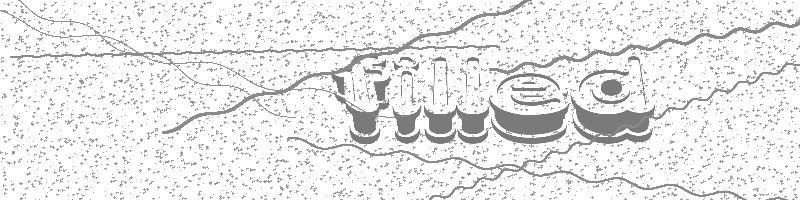d: (571, 55, 655, 144)
e: (490, 71, 570, 145)
f: (332, 53, 391, 146)
i: (392, 55, 421, 144)
l: (423, 56, 457, 145), (457, 56, 490, 145)
